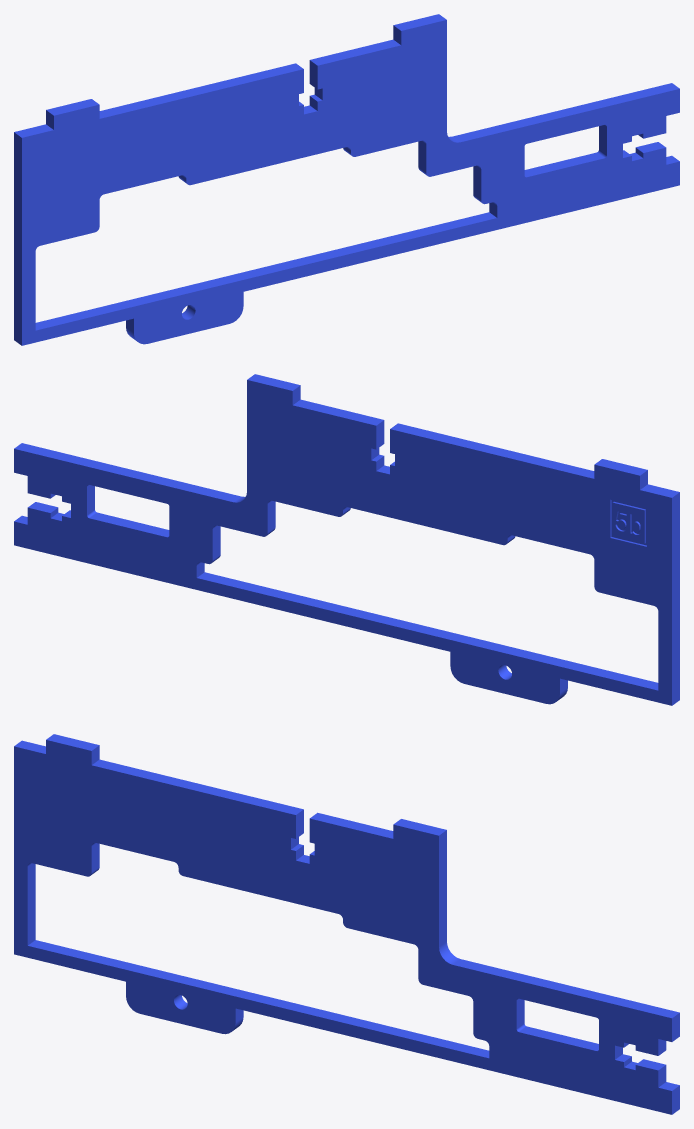
Rendered from Side_plate_left.obj.
The picture shows the model from 3 angles, top to bottom: view 1: azimuth 30°, elevation 25°; view 2: azimuth 150°, elevation 25°; view 3: azimuth 330°, elevation 25°; orthographic projection.
Parts seen in each view (by area): view 1: Body1; view 2: Body1; view 3: Body1.
Boxes of the visible parts, left/top/right/bottom form: Body1: left=14, top=14, right=679, bottom=345; Body1: left=14, top=374, right=679, bottom=705; Body1: left=14, top=734, right=679, bottom=1114.
Size of the model in its own units: 14.4 by 5.25 by 0.3.
